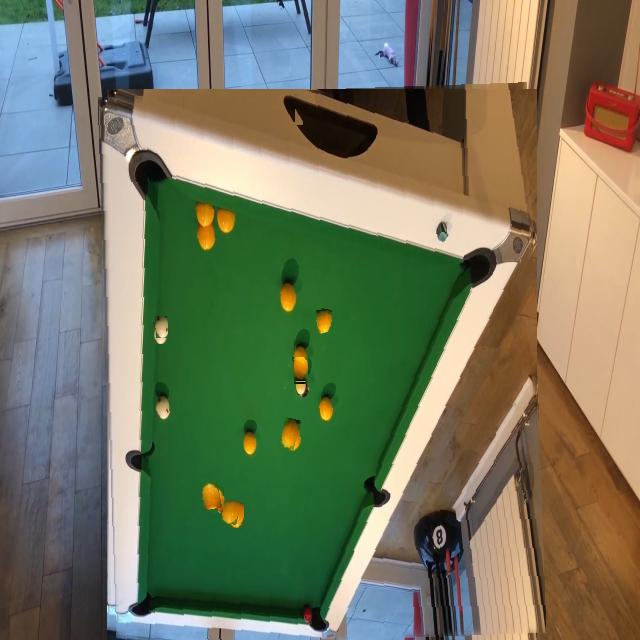Ball: (280, 418, 300, 450), (201, 482, 221, 510), (222, 500, 240, 524), (202, 507, 219, 530), (317, 308, 332, 334), (293, 358, 308, 383), (295, 332, 309, 356), (240, 278, 254, 300), (155, 316, 168, 338), (295, 108, 303, 125)
Billiard table: (102, 85, 541, 640)
